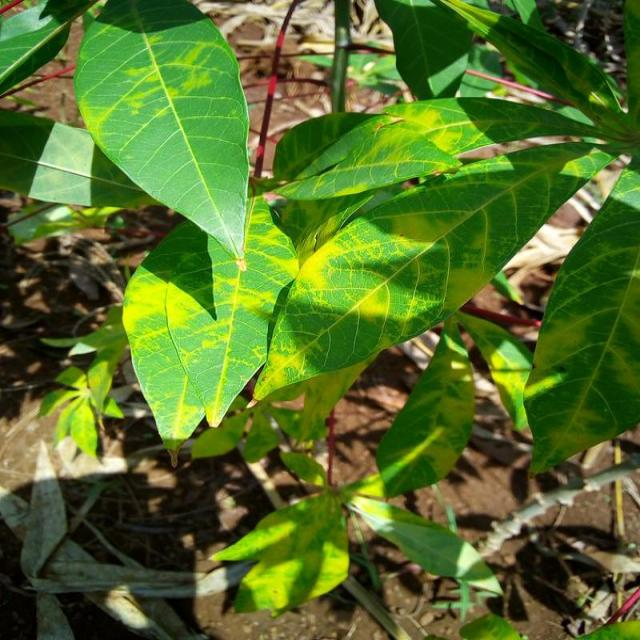cassava leaf: (251, 136, 617, 410), (121, 193, 299, 465), (71, 0, 250, 261), (522, 164, 638, 476)
